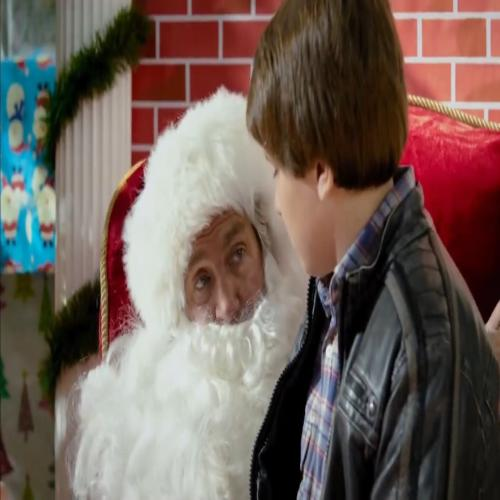Santa: (77, 90, 305, 499)
